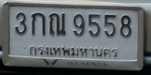num3: (13, 11, 27, 35)
txt01: (30, 12, 46, 37)
txt14: (47, 12, 67, 37)
